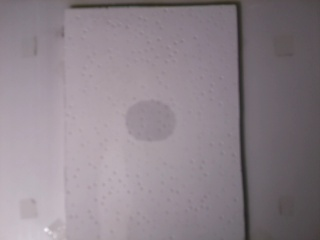Water_detected: (127, 99, 173, 138)
